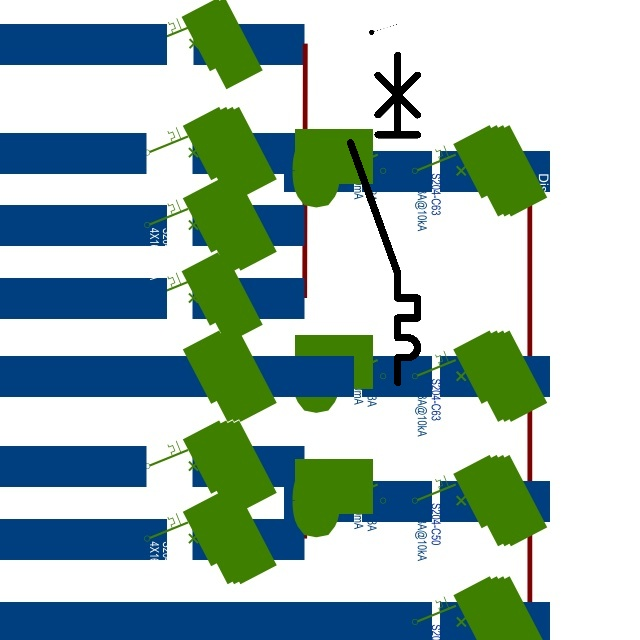interruptor_termomagnetico: (342, 46, 426, 390)
